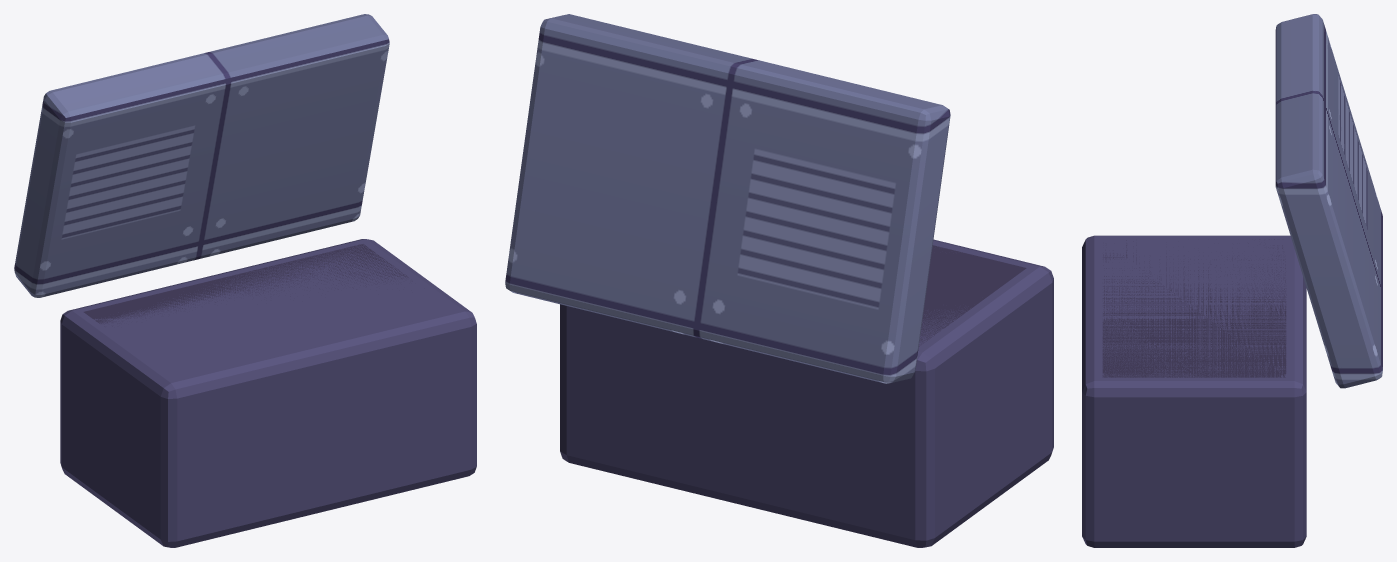
Rendered from loot_chest_open.glb.
3 renders of one model, left to right at view 1: azimuth 30°, elevation 25°; view 2: azimuth 150°, elevation 25°; view 3: azimuth 270°, elevation 25°, orthographic. The views are drawn at different scales.
Visible parts, largest first — view 1: loot_chest_open; view 2: loot_chest_open; view 3: loot_chest_open.
Boxes of the visible parts, x1,y1,x2,y2 form: loot_chest_open: [14, 14, 476, 547]; loot_chest_open: [505, 14, 1053, 547]; loot_chest_open: [1082, 14, 1382, 547].
Bounding box in the file's own units: 0.94 × 1.03 × 0.7364.
Materials: 3 (1 with a texture image).
